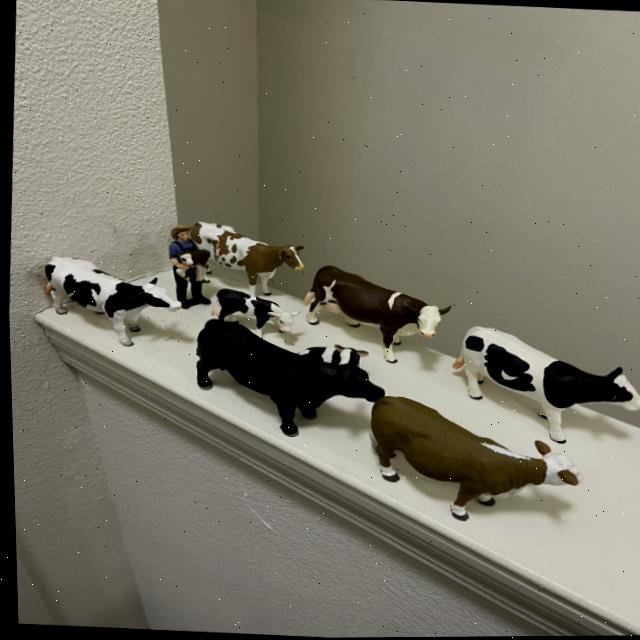cow: (345, 390, 587, 553), (174, 311, 388, 463), (440, 322, 640, 464), (292, 261, 449, 377), (27, 246, 185, 361), (175, 217, 309, 307), (206, 281, 297, 348), (295, 339, 366, 370), (178, 249, 209, 268)
person: (176, 266, 209, 311), (166, 225, 199, 265), (171, 263, 189, 309)
